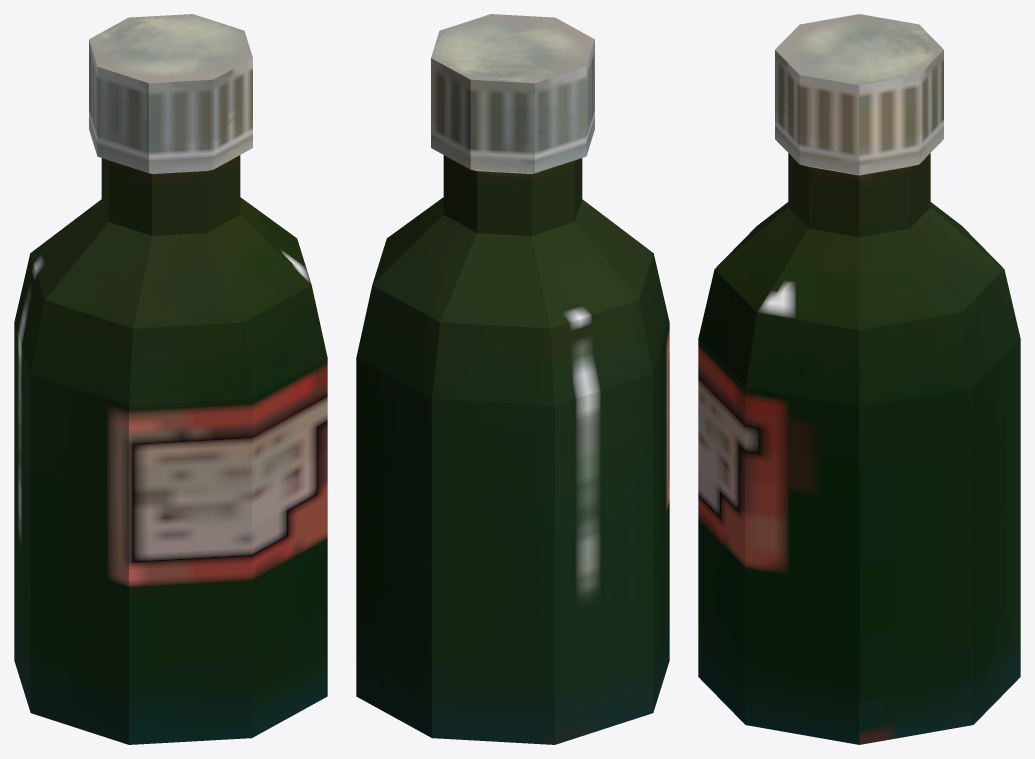
File: jar_5.fbx
3 renders of one model, left to right at view 1: azimuth 30°, elevation 25°; view 2: azimuth 150°, elevation 25°; view 3: azimuth 270°, elevation 25°, orthographic.
Visible parts, largest first — view 1: mesh_0; view 2: mesh_0; view 3: mesh_0.
Boxes of the visible parts, bbox=[...] form: mesh_0: bbox=[14, 14, 327, 744]; mesh_0: bbox=[356, 14, 669, 744]; mesh_0: bbox=[698, 14, 1020, 744].
Bounding box in the file's own units: 7.6 × 16.3 × 7.6.
Materials: 1 (1 with a texture image).
